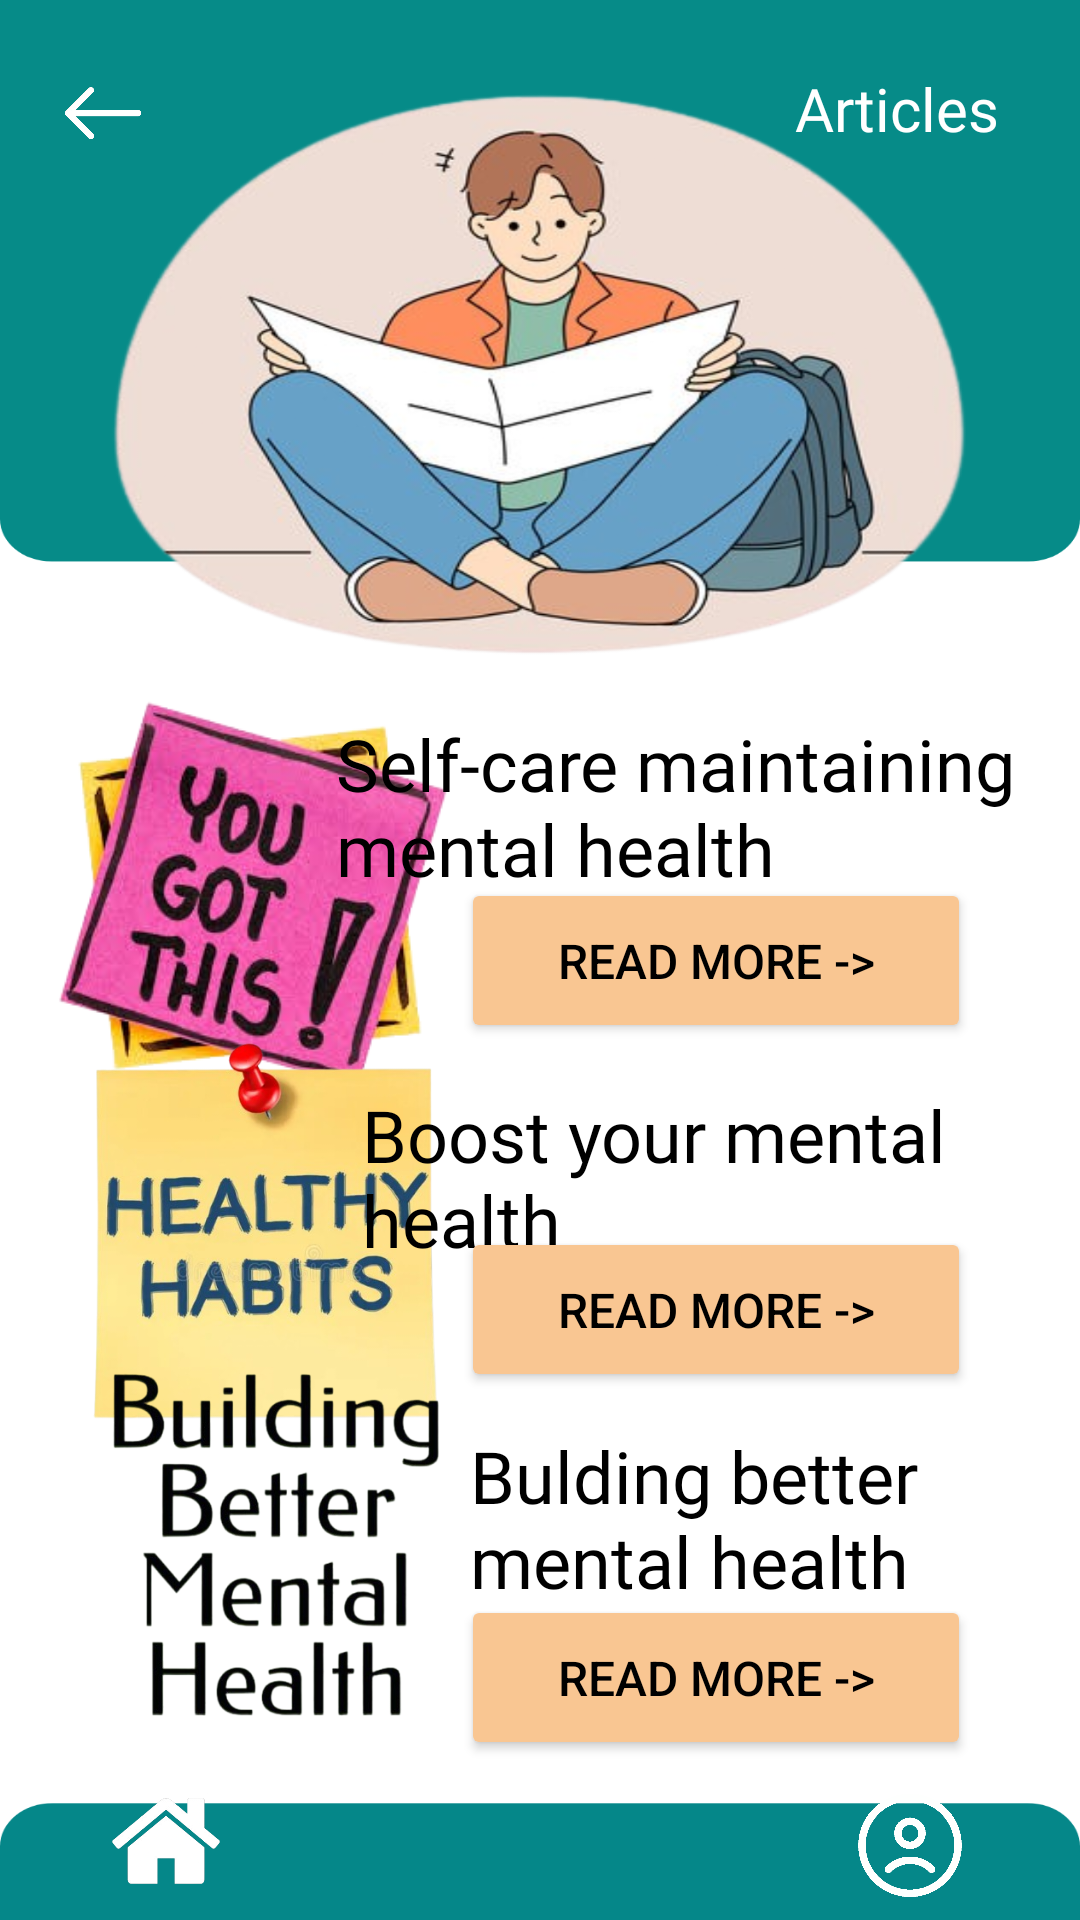

Icons on this 1080 × 1920 Android screen, each with the point to tap as [x,y]:
Back: [103,113]
